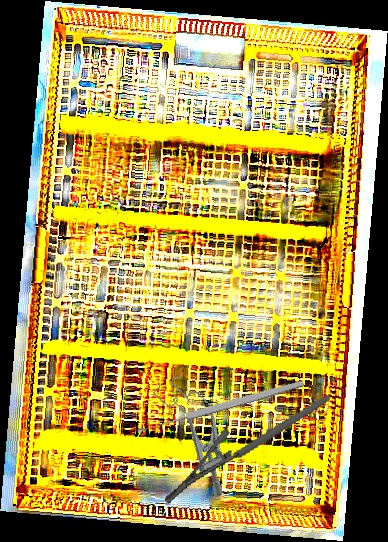Needle Holder: (150, 394, 345, 506)
Speculum: (150, 367, 249, 503)
Surgical Spoon: (135, 378, 306, 436)
